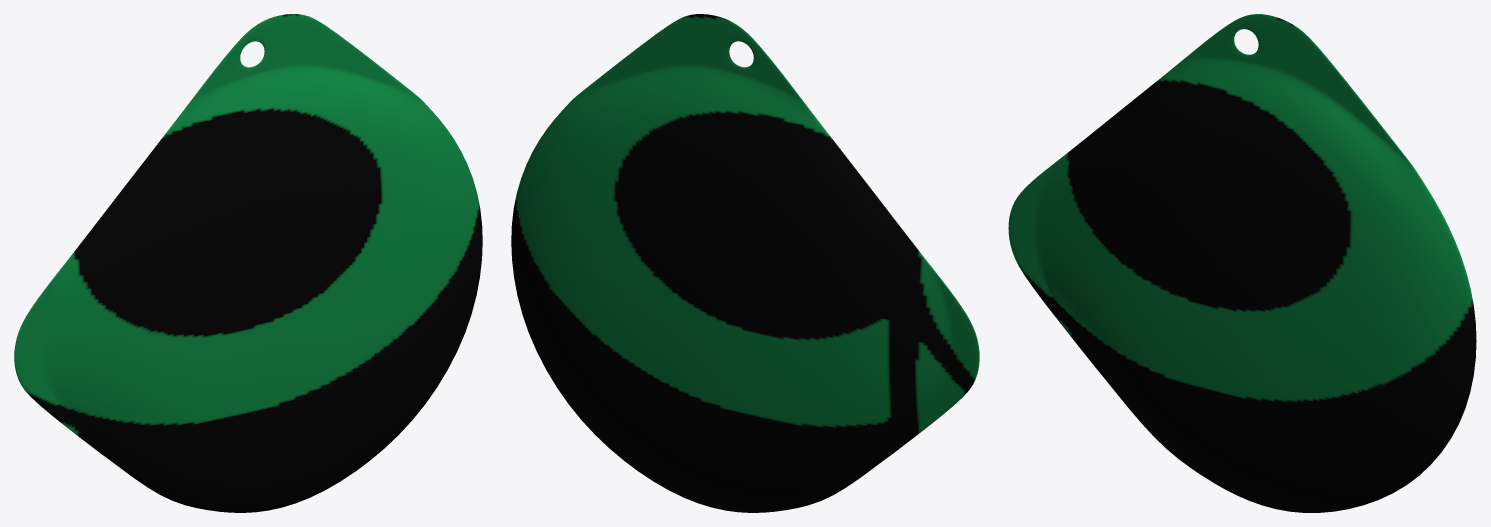
3 views of the same model, side by side, from view 1: azimuth 30°, elevation 25°; view 2: azimuth 150°, elevation 25°; view 3: azimuth 330°, elevation 25° (orthographic).
Parts seen in each view (by area): view 1: 贴图; view 2: 贴图; view 3: 贴图.
Boxes of the visible parts, box(x1,y1,x2,y2) form: 贴图: box(14, 14, 482, 512); 贴图: box(511, 14, 979, 512); 贴图: box(1008, 14, 1476, 512).
Bounding box in the file's own units: 128 × 129 × 15.18.
Materials: 1 (1 with a texture image).
